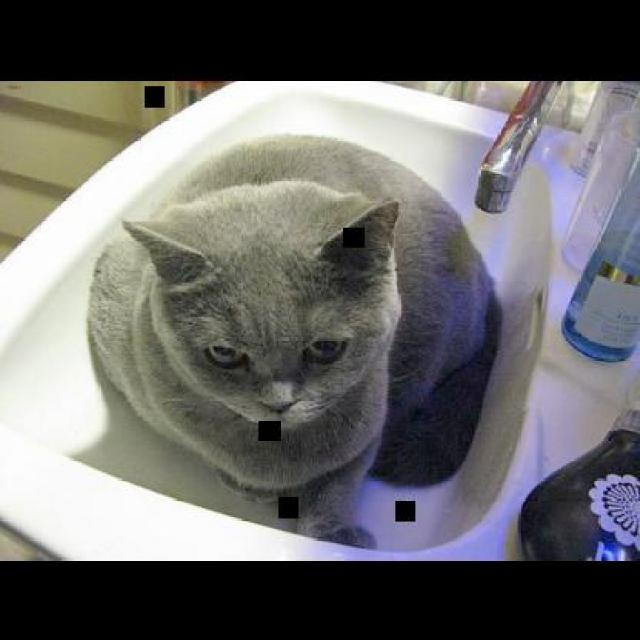unauthorized: (85, 130, 503, 548)
